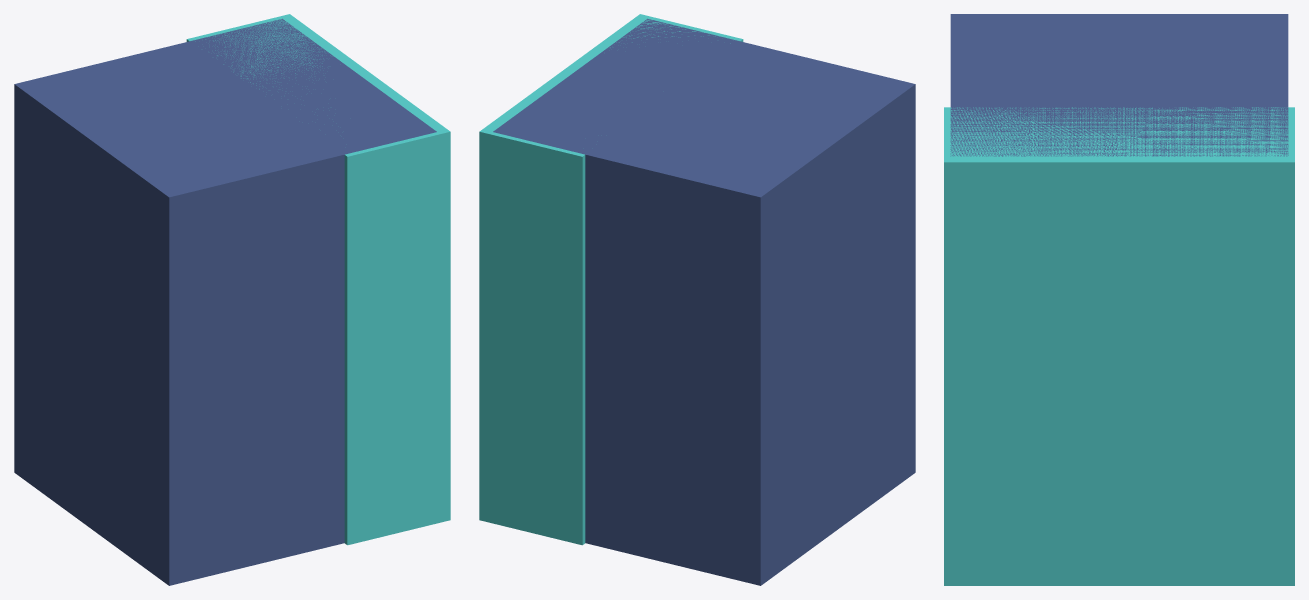
File: mergulhador_coxa.glb
3 views of the same model, side by side, from view 1: azimuth 30°, elevation 25°; view 2: azimuth 150°, elevation 25°; view 3: azimuth 270°, elevation 25° (orthographic). The views are drawn at different scales.
Parts seen in each view (by area): view 1: mergulhador_coxa; view 2: mergulhador_coxa; view 3: mergulhador_coxa.
Boxes of the visible parts, x1,y1,x2,y2 form: mergulhador_coxa: (14, 14, 450, 585); mergulhador_coxa: (479, 14, 915, 585); mergulhador_coxa: (944, 14, 1294, 585).
Size of the model in its own units: 0.27 by 0.36 by 0.27.
